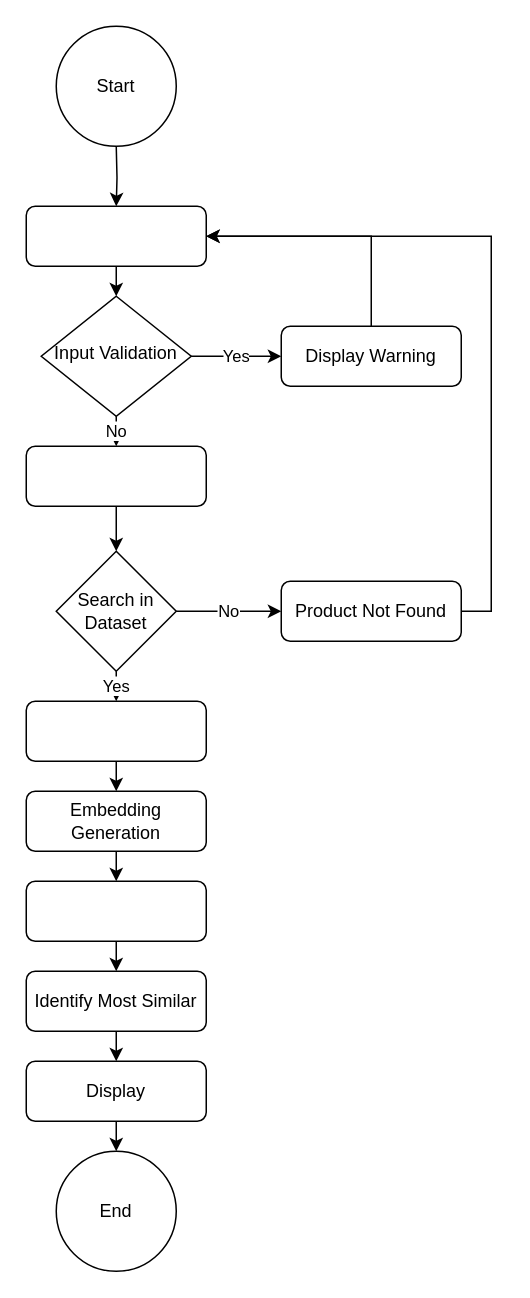
Some shapes in this 530 by 1298 pixel diagram are drawn without their labels. Here are the shapes that lost their labels. From the top down, the centre of each, then its label:
At [115,235]: "User Input".
At [115,475]: "Product Normaalization".
At [115,730]: "Description retrieval".
At [115,910]: "Calculating Similarity".
